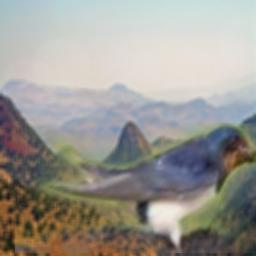Swallow: (15, 123, 256, 253)
